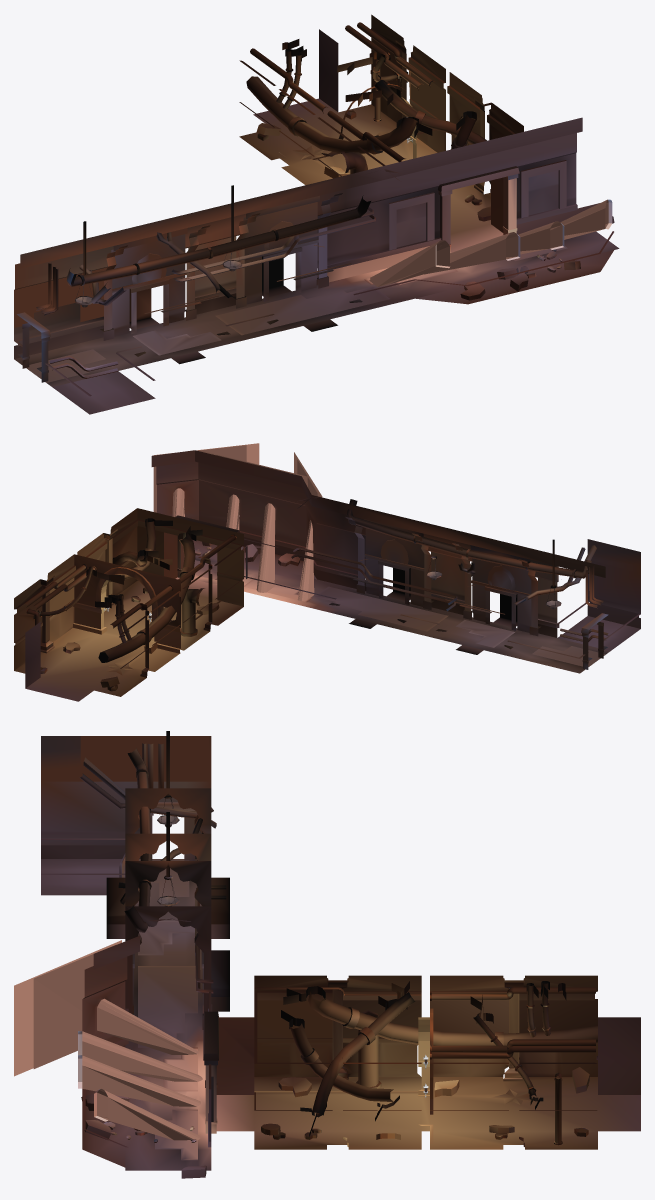
Rendered from 03Connection.gltf.
3 renders of one model, top to bottom at view 1: azimuth 30°, elevation 25°; view 2: azimuth 150°, elevation 25°; view 3: azimuth 270°, elevation 25°, orthographic. The views are drawn at different scales.
Parts seen in each view (by area): view 1: stg030_o05_Mesh_9, stg030_o06_Mesh_4, stg030_o10_Mesh_20, stg030_o06_Mesh_14, stg030_o05_Mesh_12, stg030_o10_Mesh_33, stg030_o06_Mesh_0, stg030_o06_Mesh_26, stg030_o06_Mesh_29, stg030_lighting_06_Mesh_0, stg030_o10_Mesh_16, stg030_o05_Mesh_11 (+10 smaller); view 2: stg030_o05_Mesh_9, stg030_o06_Mesh_26, stg030_o05_Mesh_12, stg030_o06_Mesh_4, stg030_o10_Mesh_20, stg030_o10_Mesh_33, stg030_o10_Mesh_16, stg030_o06_Mesh_14, stg030_o10_Mesh_28, stg030_o06_Mesh_0, stg030_o06_Mesh_29, stg030_o10_Mesh_50 (+14 smaller); view 3: stg030_o05_Mesh_12, stg030_o05_Mesh_9, stg030_o10_Mesh_33, stg030_o10_Mesh_20, stg030_o06_Mesh_0, stg030_lighting_06_Mesh_0, stg030_o10_Mesh_50, stg030_o10_Mesh_16, stg030_o06_Mesh_30, stg030_o06_Mesh_26, stg030_o06_Mesh_14, stg030_o10_Mesh_28 (+11 smaller).
Boxes of the visible parts, bbox=[...] form: stg030_o05_Mesh_9: bbox=[36, 22, 486, 378]; stg030_o06_Mesh_4: bbox=[15, 117, 582, 281]; stg030_o10_Mesh_20: bbox=[14, 14, 619, 414]; stg030_o06_Mesh_14: bbox=[14, 144, 576, 373]; stg030_o05_Mesh_12: bbox=[239, 98, 503, 252]; stg030_o10_Mesh_33: bbox=[20, 67, 613, 411]; stg030_o06_Mesh_0: bbox=[17, 247, 562, 382]; stg030_o06_Mesh_26: bbox=[14, 153, 576, 340]; stg030_o06_Mesh_29: bbox=[111, 202, 317, 327]; stg030_lighting_06_Mesh_0: bbox=[369, 199, 608, 286]; stg030_o10_Mesh_16: bbox=[17, 29, 518, 371]; stg030_o05_Mesh_11: bbox=[256, 39, 614, 300]; stg030_o05_Mesh_9: bbox=[24, 499, 608, 662]; stg030_o06_Mesh_26: bbox=[157, 480, 640, 623]; stg030_o05_Mesh_12: bbox=[14, 577, 243, 701]; stg030_o06_Mesh_4: bbox=[151, 450, 640, 577]; stg030_o10_Mesh_20: bbox=[14, 508, 640, 673]; stg030_o10_Mesh_33: bbox=[14, 540, 632, 688]; stg030_o10_Mesh_16: bbox=[15, 517, 607, 666]; stg030_o06_Mesh_14: bbox=[156, 473, 640, 666]; stg030_o10_Mesh_28: bbox=[14, 485, 640, 674]; stg030_o06_Mesh_0: bbox=[194, 561, 605, 666]; stg030_o06_Mesh_29: bbox=[365, 528, 531, 625]; stg030_o10_Mesh_50: bbox=[14, 526, 603, 681]; stg030_o05_Mesh_12: bbox=[216, 1077, 640, 1149]; stg030_o05_Mesh_9: bbox=[79, 743, 597, 1145]; stg030_o10_Mesh_33: bbox=[41, 859, 640, 1170]; stg030_o10_Mesh_20: bbox=[41, 859, 597, 1170]; stg030_o06_Mesh_0: bbox=[85, 736, 205, 1158]; stg030_lighting_06_Mesh_0: bbox=[82, 998, 202, 1140]; stg030_o10_Mesh_50: bbox=[132, 853, 597, 1136]; stg030_o10_Mesh_16: bbox=[132, 811, 640, 1121]; stg030_o06_Mesh_30: bbox=[125, 788, 211, 953]; stg030_o06_Mesh_26: bbox=[41, 781, 211, 1042]; stg030_o06_Mesh_14: bbox=[41, 736, 213, 1160]; stg030_o10_Mesh_28: bbox=[41, 830, 597, 1140].
Bounding box in the file's own units: 90.73 × 20.47 × 72.96.
